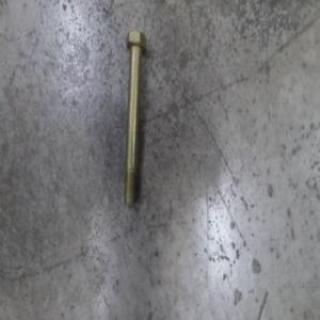Bolttrack_idkeyframe: (121, 25, 147, 208)
